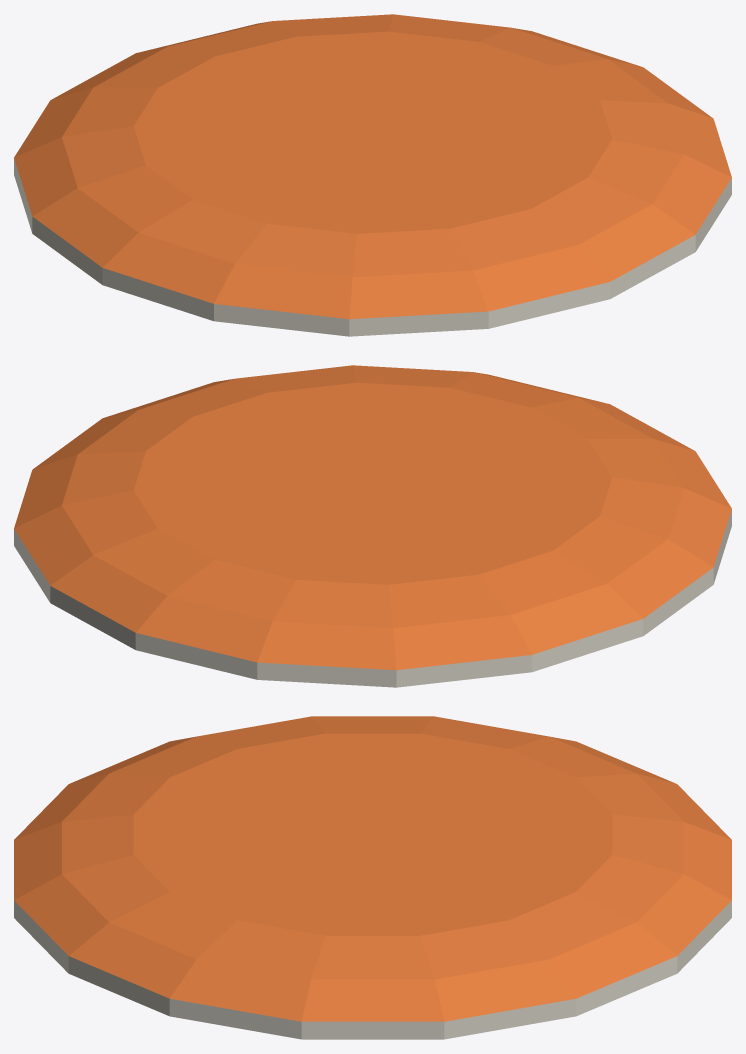
3 views of the same model, one above another, from view 1: azimuth 30°, elevation 25°; view 2: azimuth 150°, elevation 25°; view 3: azimuth 270°, elevation 25° (orthographic).
Parts seen in each view (by area): view 1: ContinuousRecessedRimFlyingDiscShell; view 2: ContinuousRecessedRimFlyingDiscShell; view 3: ContinuousRecessedRimFlyingDiscShell.
Boxes of the visible parts, left/top/right/bottom form: ContinuousRecessedRimFlyingDiscShell: left=14, top=14, right=731, bottom=336; ContinuousRecessedRimFlyingDiscShell: left=14, top=365, right=731, bottom=687; ContinuousRecessedRimFlyingDiscShell: left=14, top=716, right=731, bottom=1039.
Size of the model in its own units: 0.2942 by 0.024 by 0.2942.
